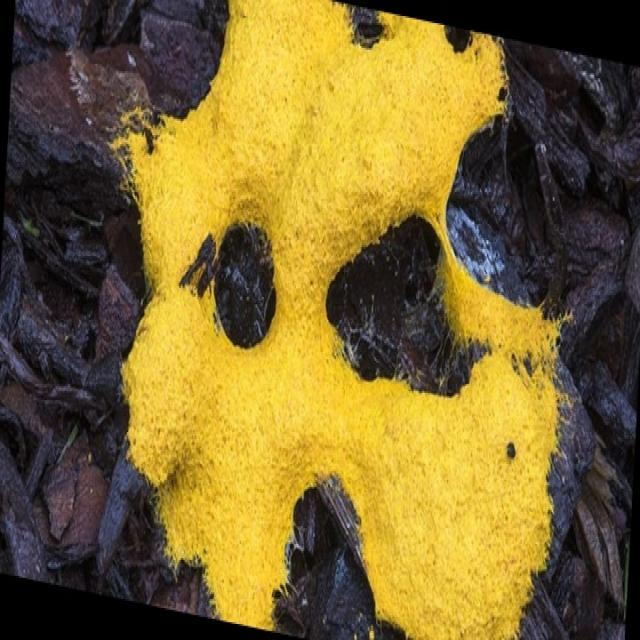Dog_vomit_slime_mold: (122, 0, 562, 640)
